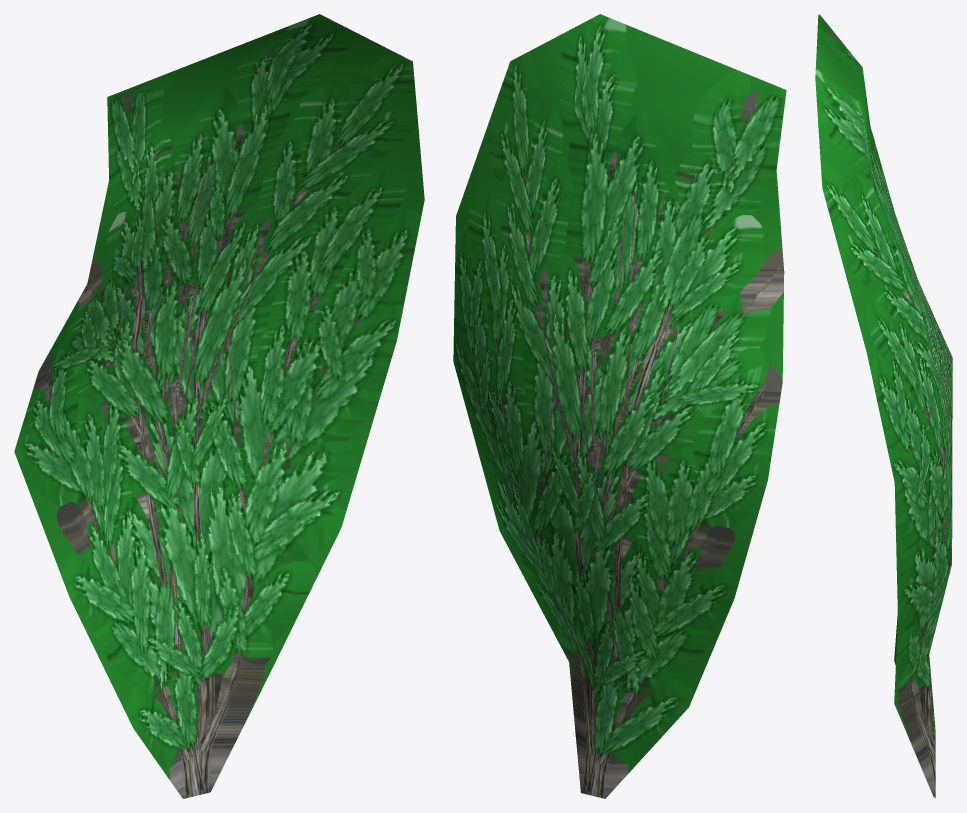
File: branch_2.fbx
3 renders of one model, left to right at view 1: azimuth 30°, elevation 25°; view 2: azimuth 150°, elevation 25°; view 3: azimuth 270°, elevation 25°, orthographic. The views are drawn at different scales.
Parts seen in each view (by area): view 1: branch_2; view 2: branch_2; view 3: branch_2.
Boxes of the visible parts, x1,y1,x2,y2 form: branch_2: [14, 14, 424, 798]; branch_2: [453, 14, 786, 798]; branch_2: [815, 14, 952, 798].
Bounding box in the file's own units: 1.99 × 4.08 × 0.6849.
